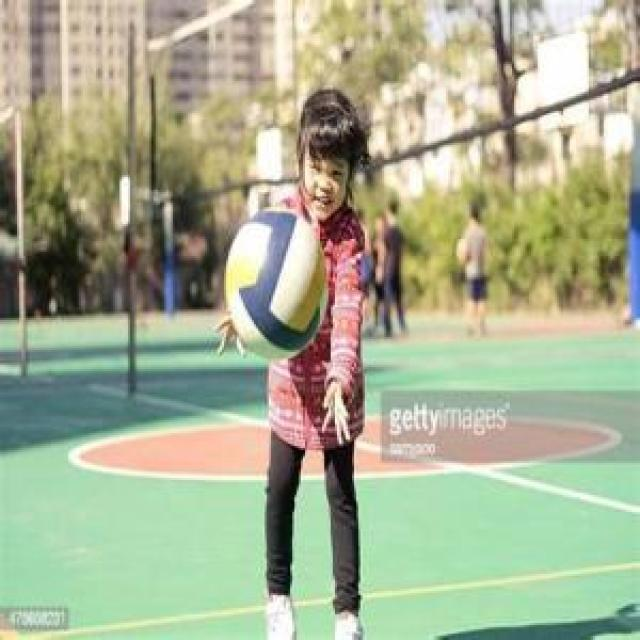volleyball: (223, 209, 325, 358)
